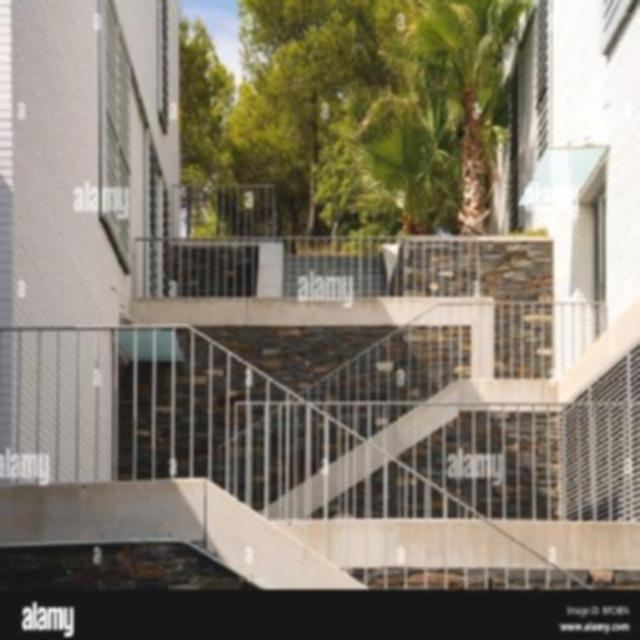stair: (143, 281, 520, 554)
